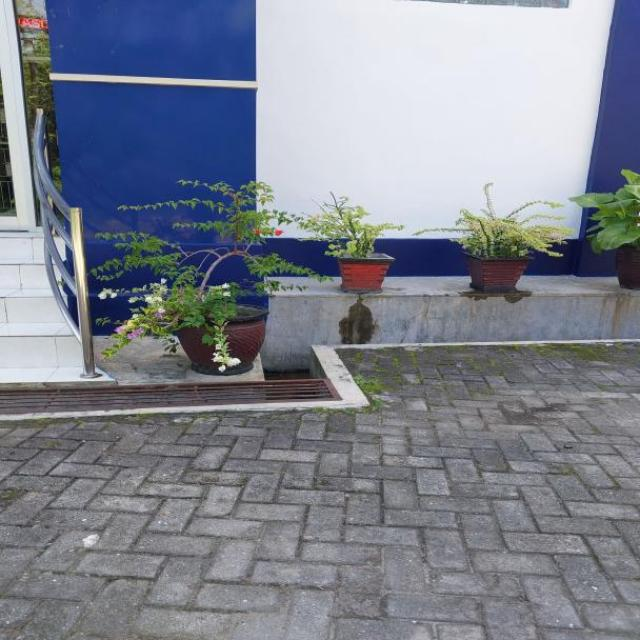plant ahead at: (112, 173, 283, 373), (438, 191, 566, 292), (296, 195, 398, 290)
